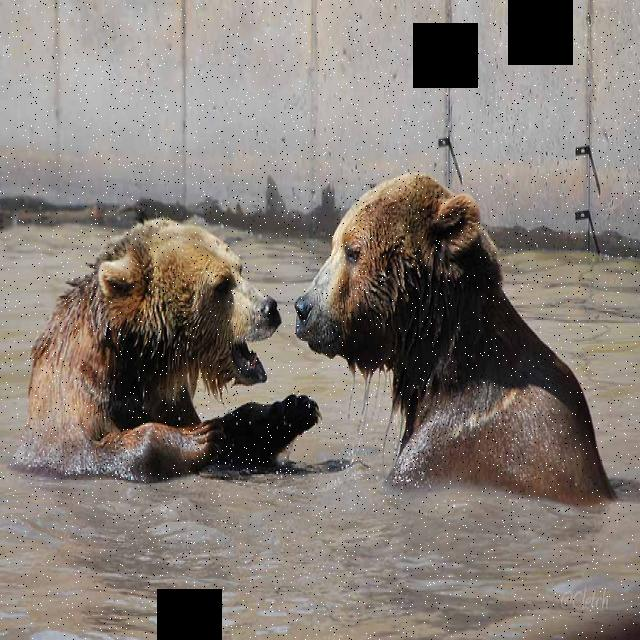Bear: (283, 158, 619, 503), (15, 214, 316, 494)
